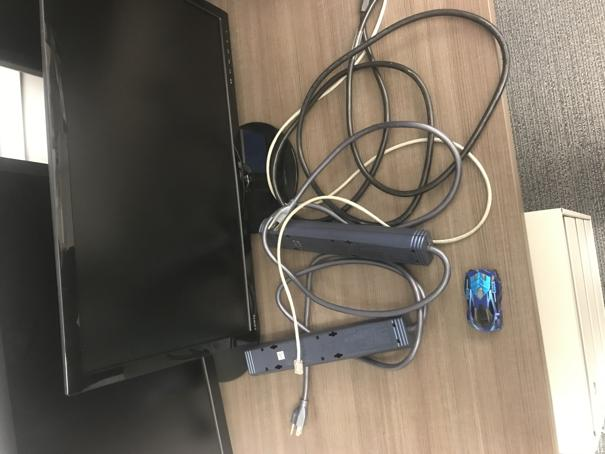Shock: (463, 269, 504, 332)
